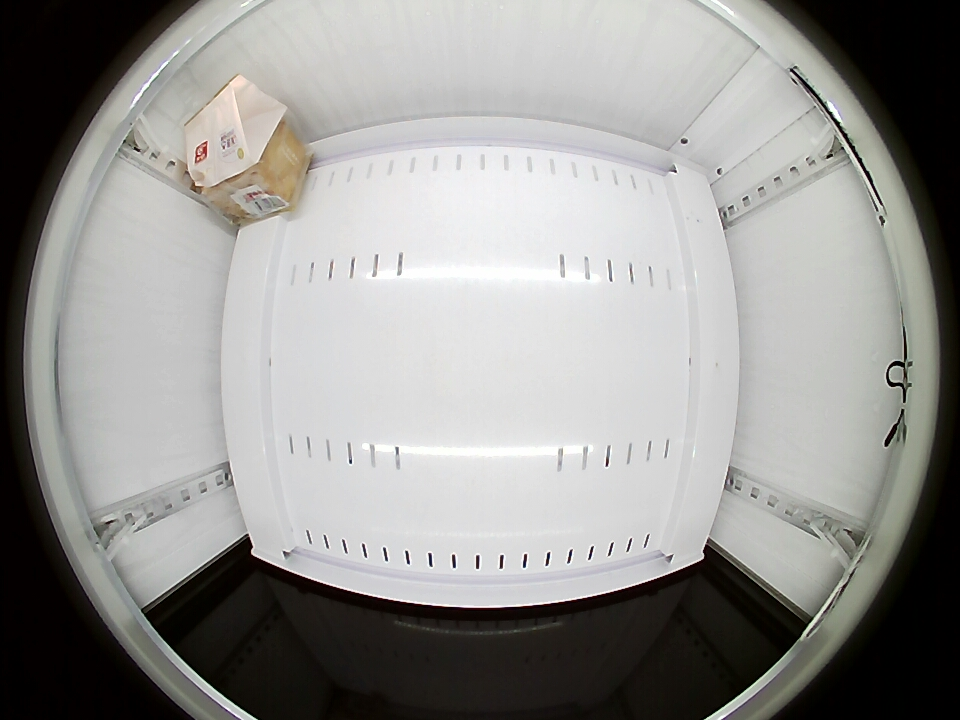zaocanmofang: (180, 76, 288, 198)
